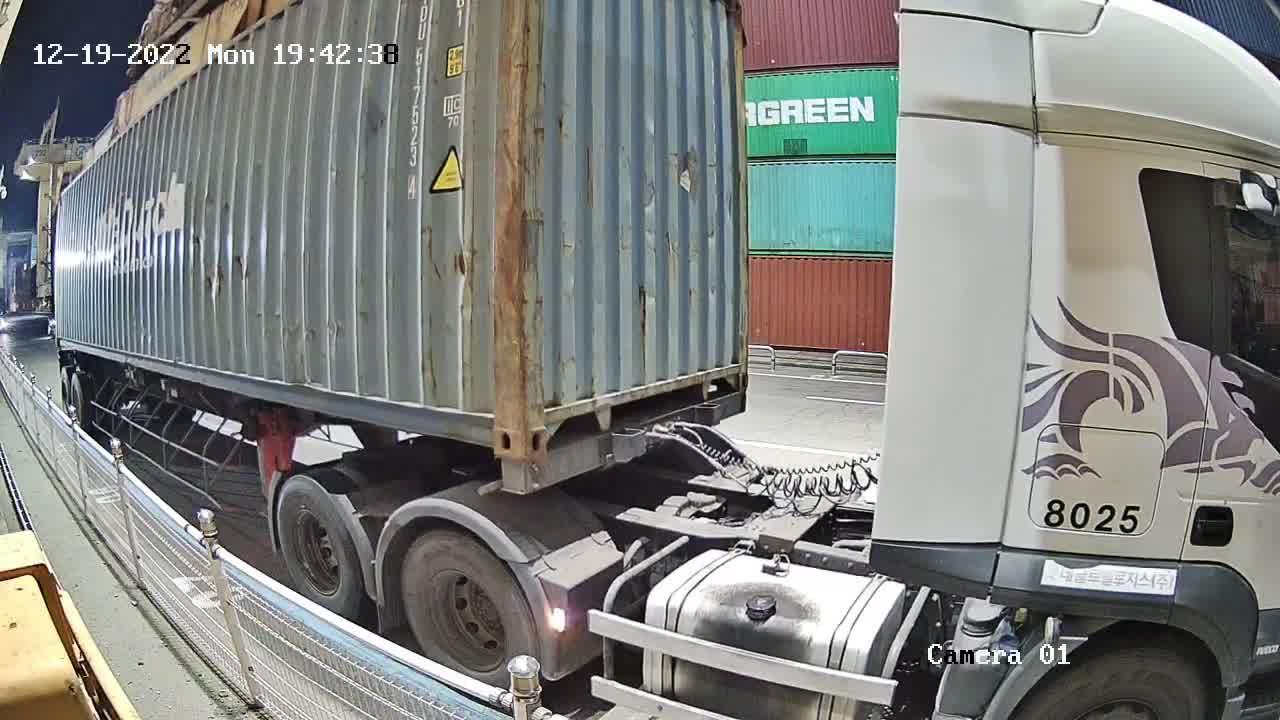Chassis: (492, 393, 746, 497)
Cone: (496, 459, 522, 495)
Hole_L: (523, 387, 583, 461)
Hole_R: (459, 384, 523, 462), (711, 348, 749, 397)
Tire: (401, 533, 534, 686), (276, 477, 362, 614)
